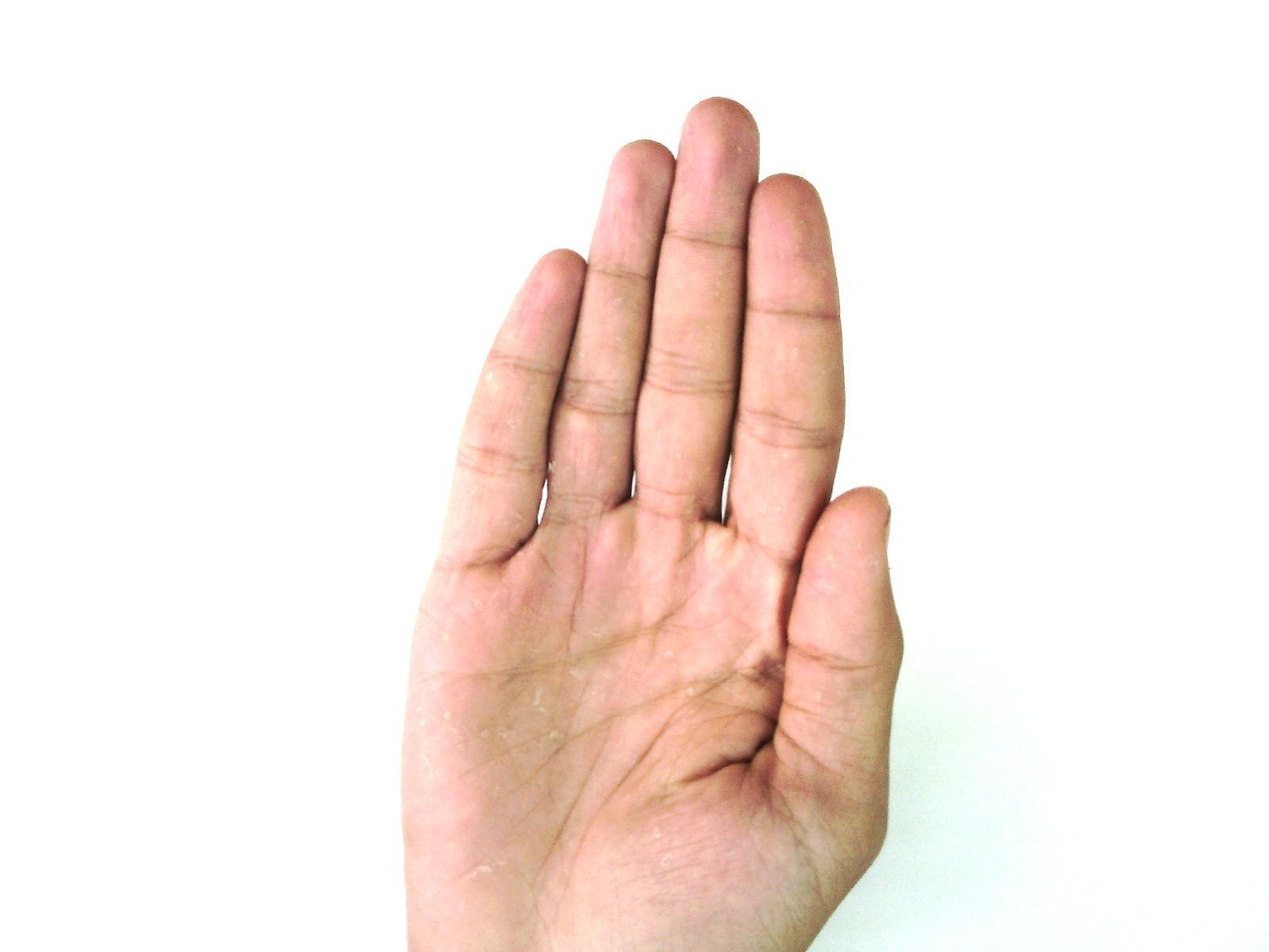open_palm: (397, 96, 907, 951)
